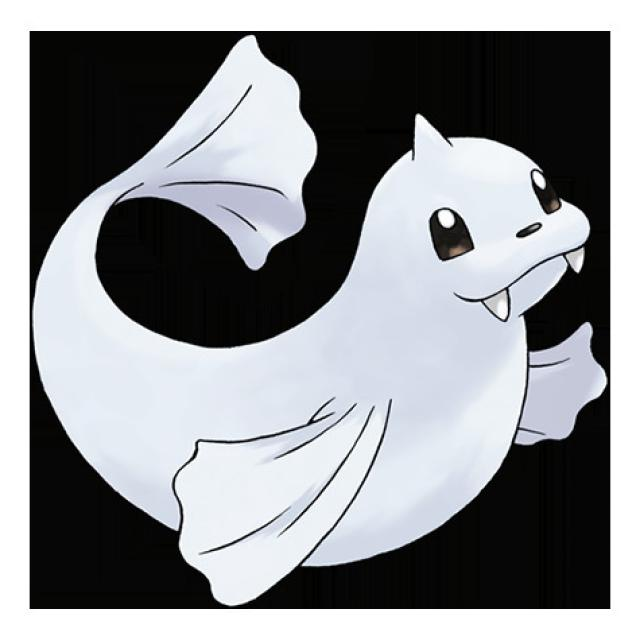Dewgong: (29, 41, 604, 601)
